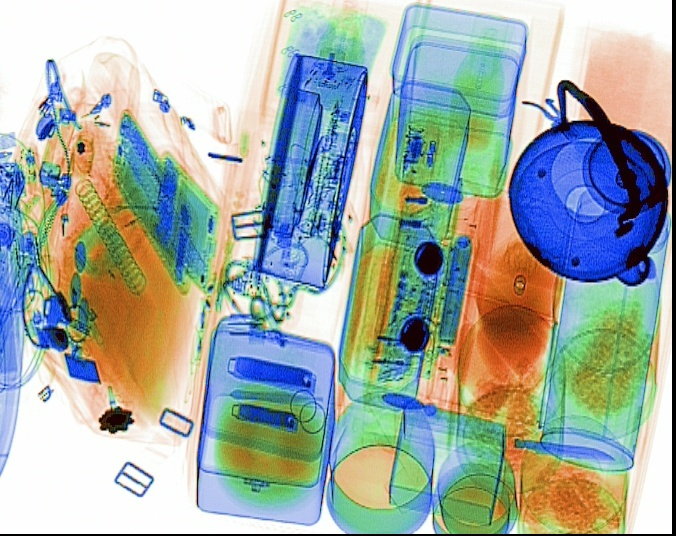powerbank: (430, 226, 479, 380)
